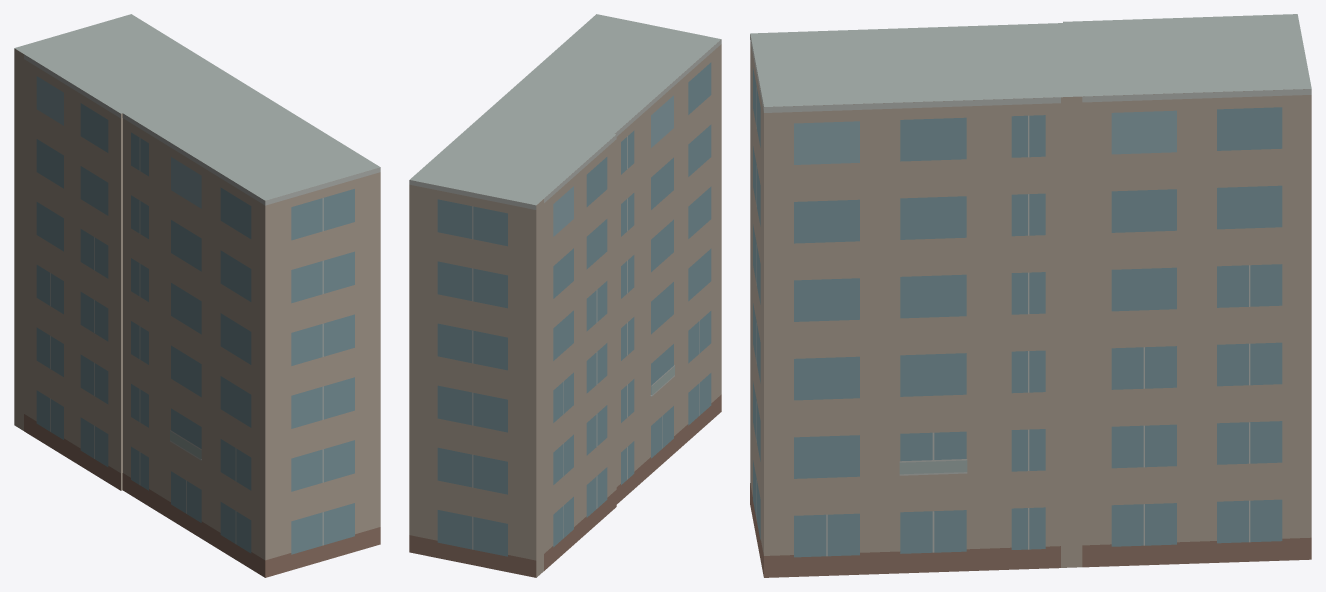
The model's file is survey-upis-32958515.glb.
3 renders of one model, left to right at view 1: azimuth 30°, elevation 25°; view 2: azimuth 150°, elevation 25°; view 3: azimuth 270°, elevation 25°, orthographic. The views are drawn at different scales.
Visible parts, largest first — view 1: survey-upis-32958515.tmp; view 2: survey-upis-32958515.tmp; view 3: survey-upis-32958515.tmp.
Part boxes in pixels (x1,y1,x2,y2): survey-upis-32958515.tmp: (14,14,380,577); survey-upis-32958515.tmp: (409,14,721,577); survey-upis-32958515.tmp: (750,14,1311,577).
Size of the model in its own units: 8.11 by 19.11 by 20.67.
